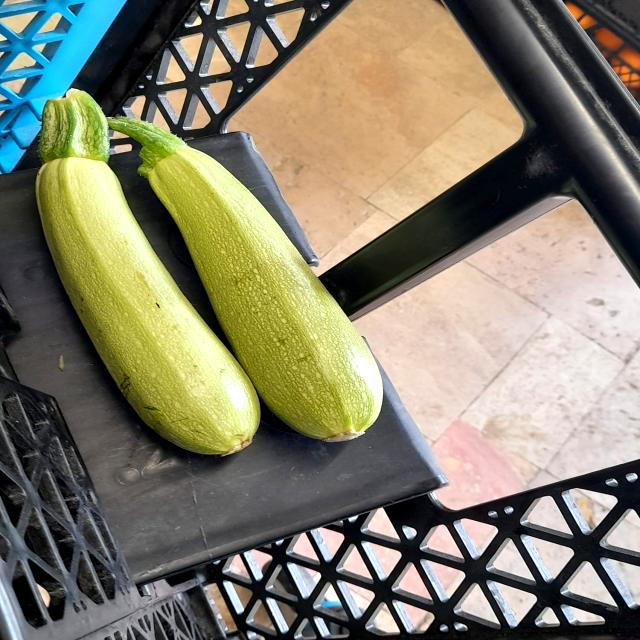zucchini: (121, 114, 394, 444), (34, 94, 260, 464)
